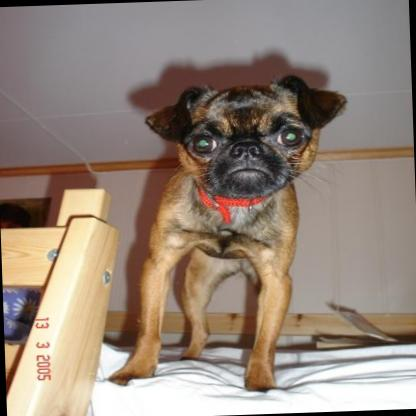Brabancon_griffon: (93, 70, 357, 398)
